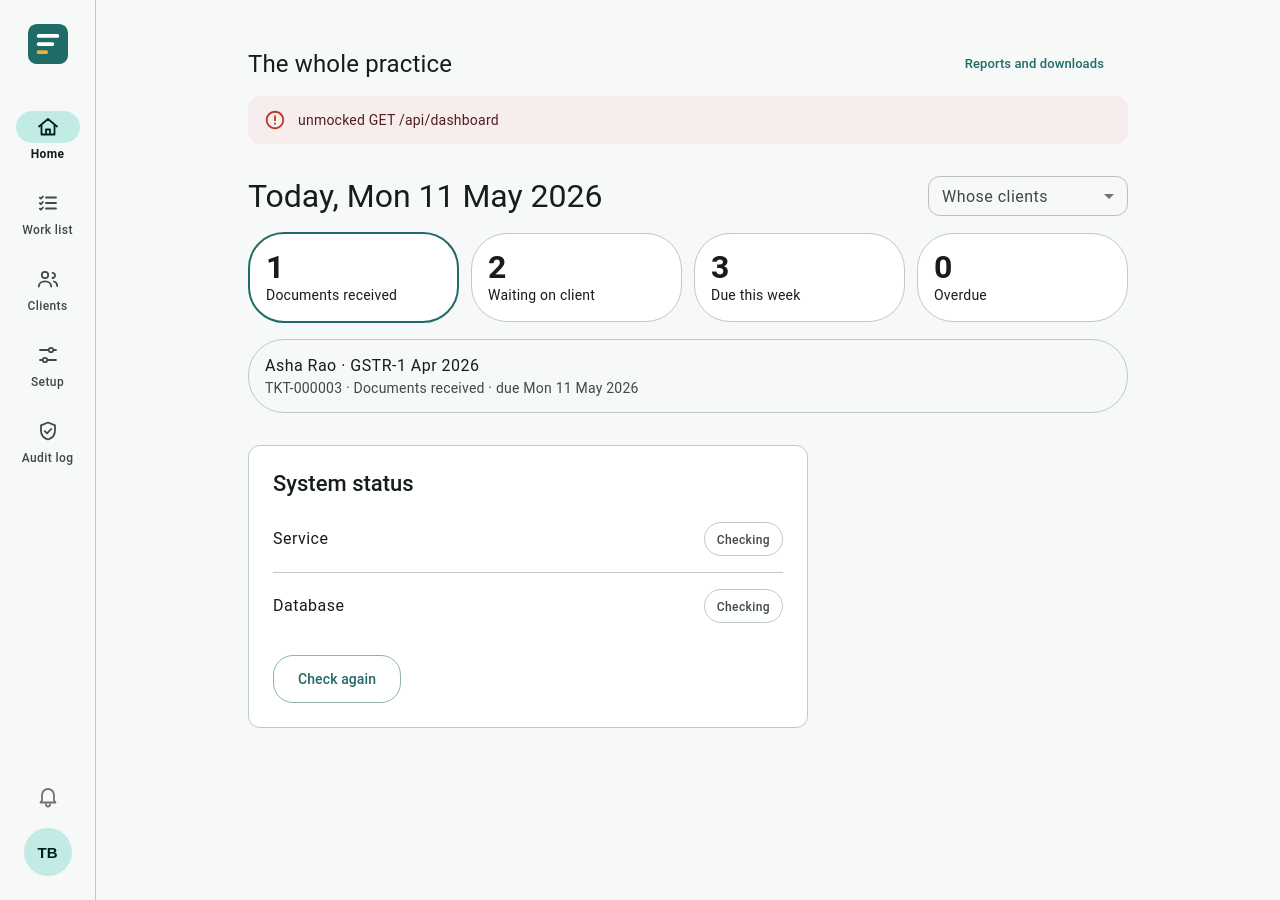
Scenario: Daily work list › lets the Administrator look at one owner's list
The image size is (1280, 900).
Check: the text with test id "count-due_this_week" reads "3", box [711,248,730,286]
Click the dropdown named "Whose clients" at (1028, 196), box [928,176,1128,216]
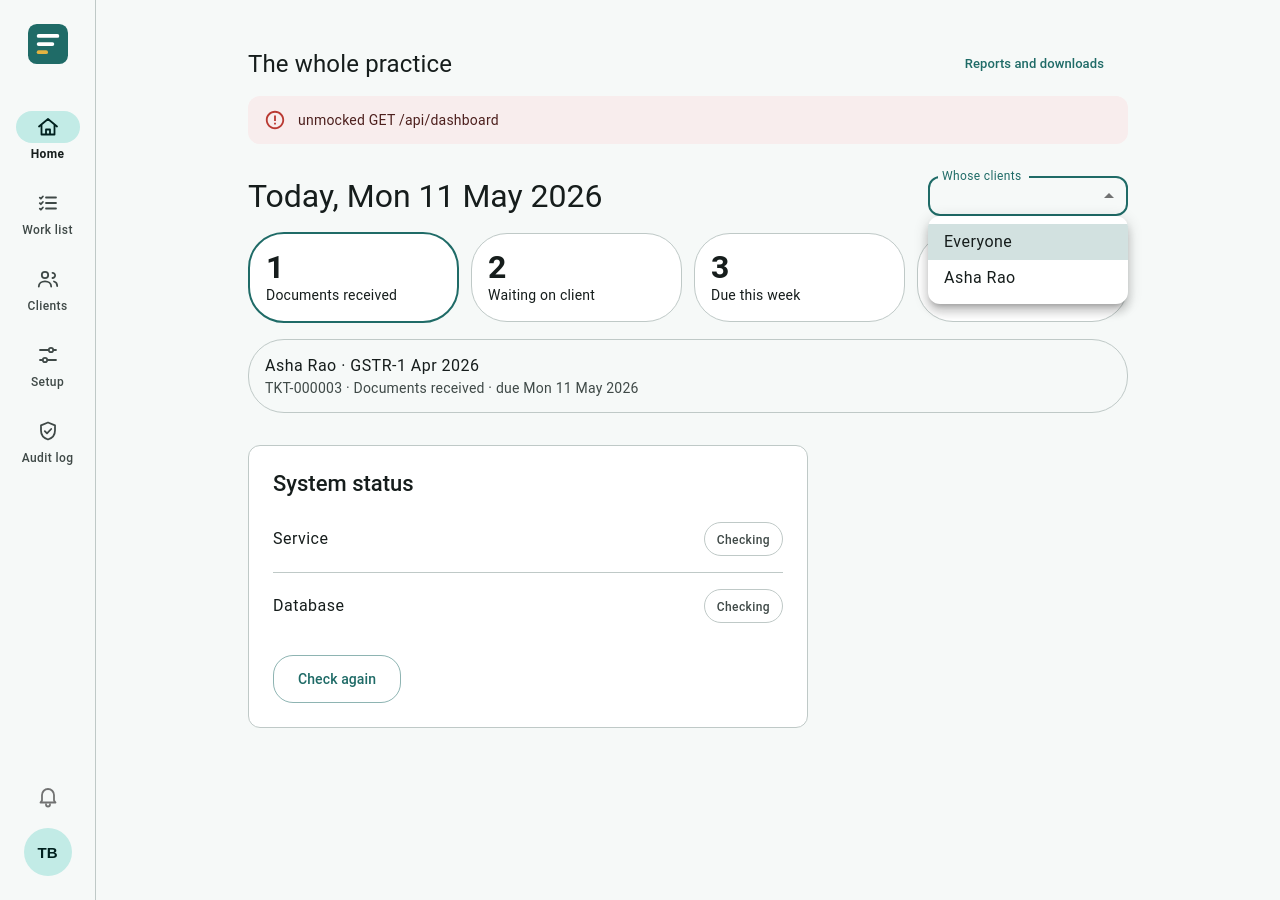
Click the option "Asha Rao" at (980, 278), box [944,268,1016,287]
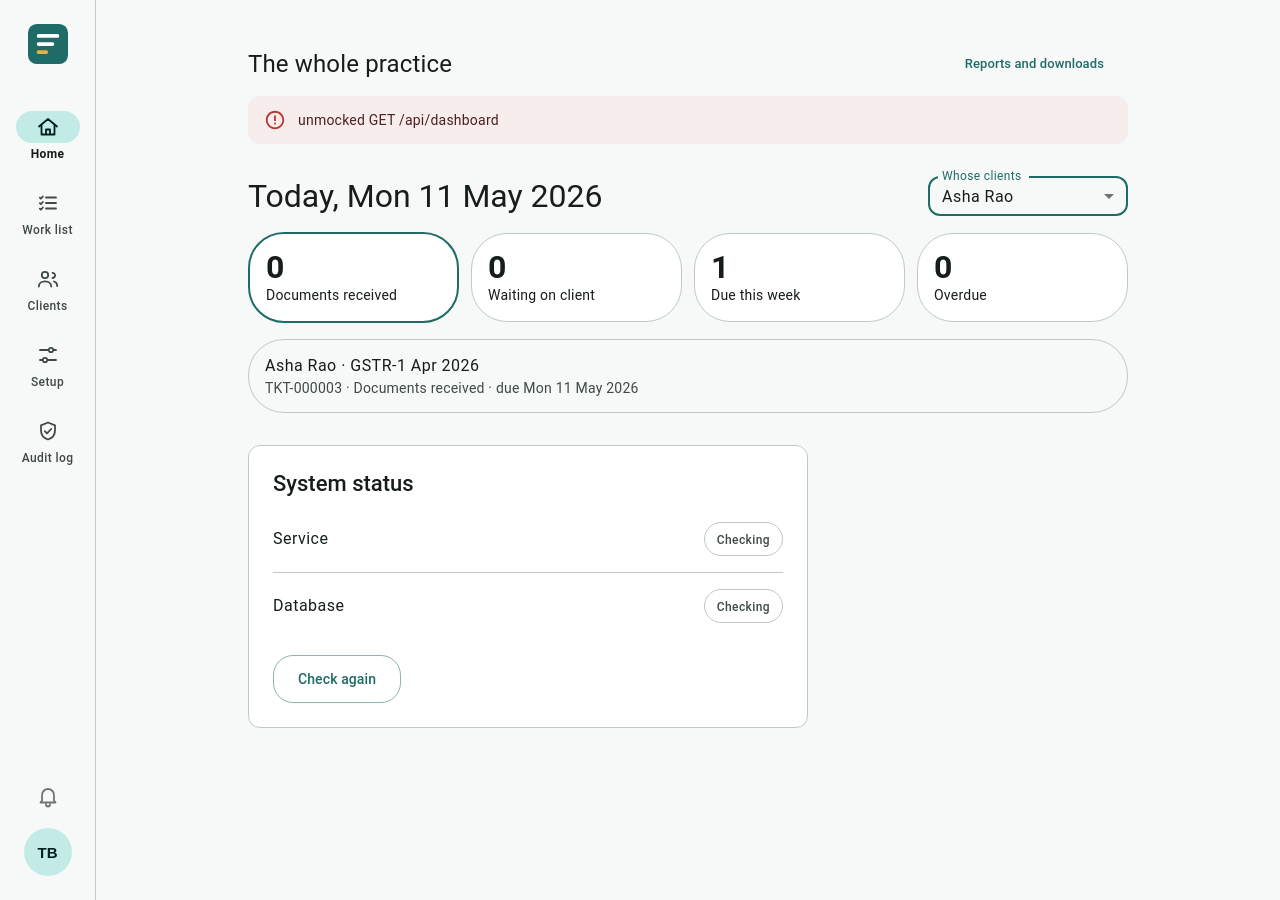
Check: the text with test id "count-due_this_week" reads "1", box [711,248,730,286]
